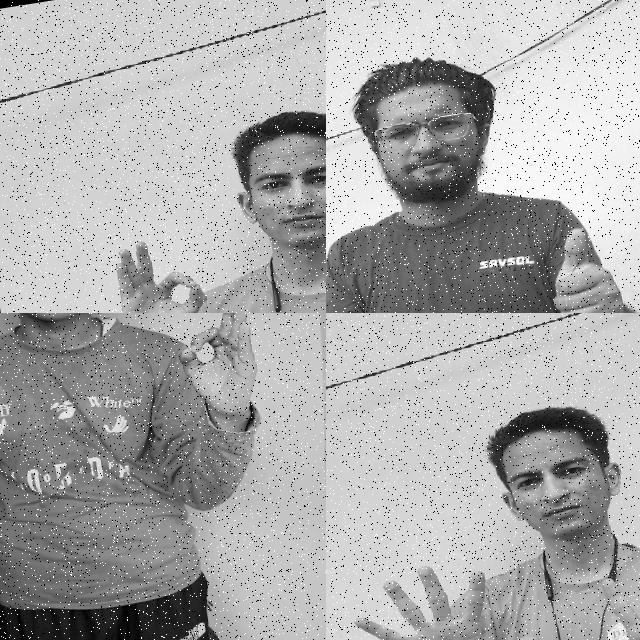Moutza: (334, 539, 554, 640), (549, 543, 640, 640)
Okay: (166, 313, 277, 437), (100, 224, 220, 313)
Thumbs Up: (529, 204, 640, 313)
